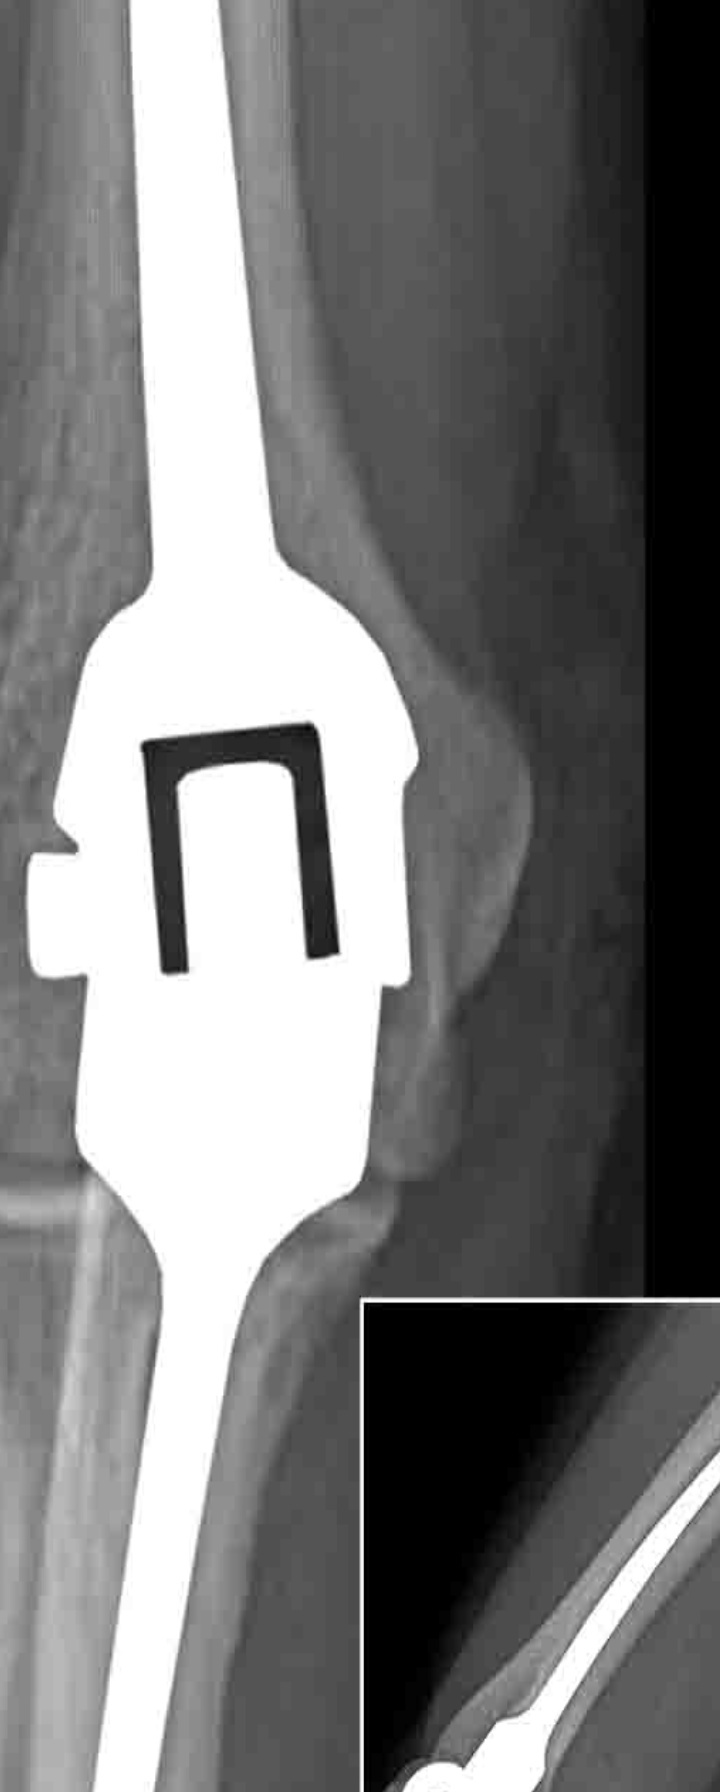Elbow - Osteonics - Stryker: (8, 2, 470, 1725)
